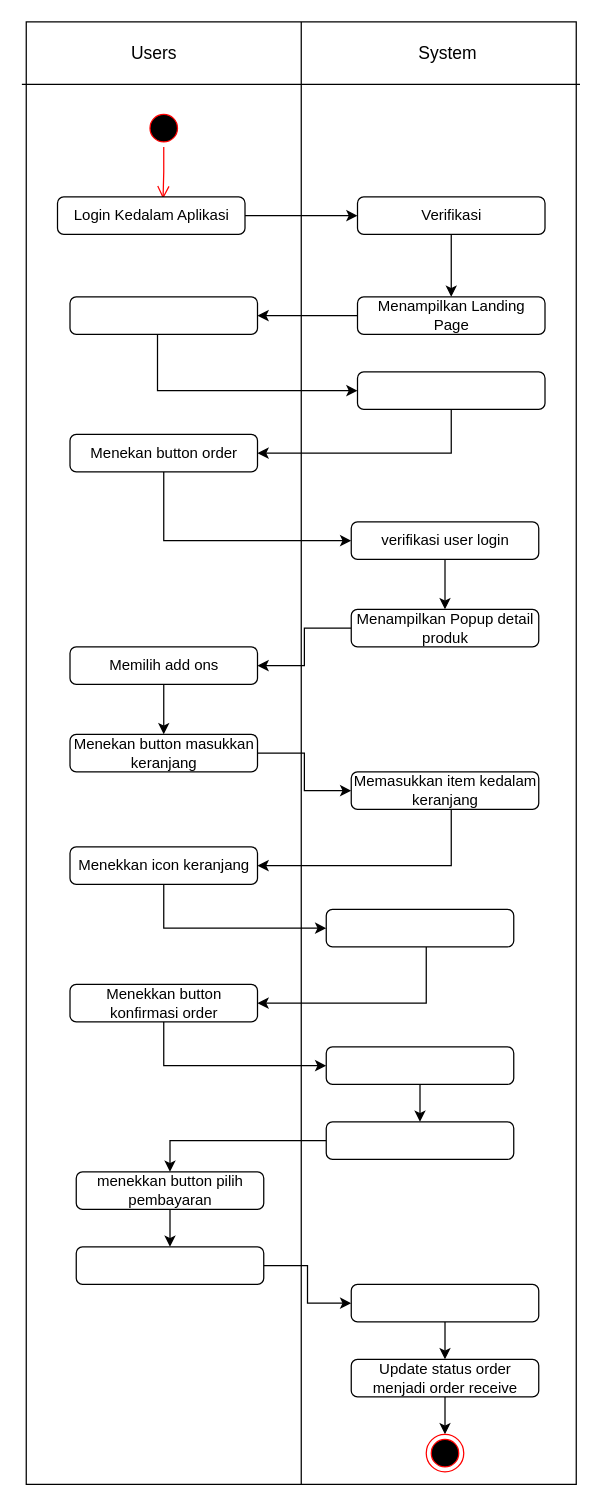
This 604x1508 diagram has some shape labels left out. The shapes that lost their labels are listed below. From the top down, each one's centre as x and y in pixels, then its label:
At pixel 163 315: "Pilih menu Products".
At pixel 450 390: "Menampilkan menu products".
At pixel 419 927: "Menampilkan Keranjang".
At pixel 419 1065: "Verifikasi jarak".
At pixel 419 1140: "Menampilkan popup detail pembayaran".
At pixel 169 1265: "Melakukkan pembayaran".
At pixel 444 1302: "Verifikasi pembayaran".
